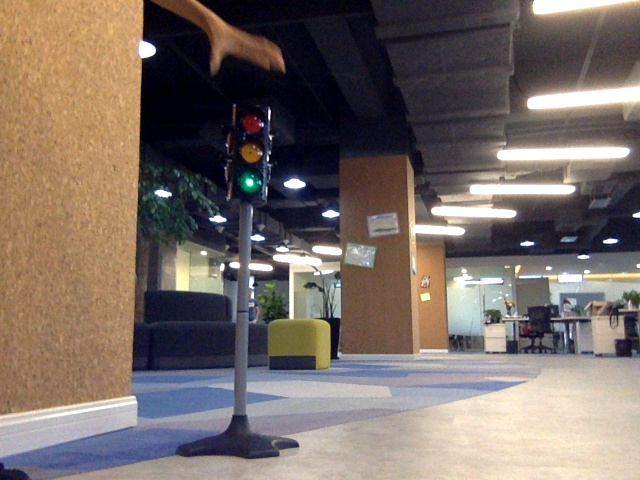green: (231, 113, 265, 195)
